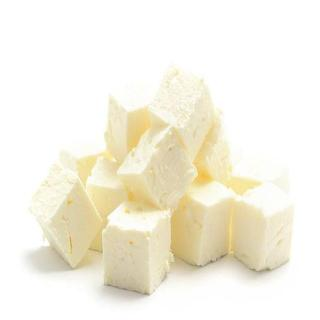Tahu: (22, 55, 300, 304)
